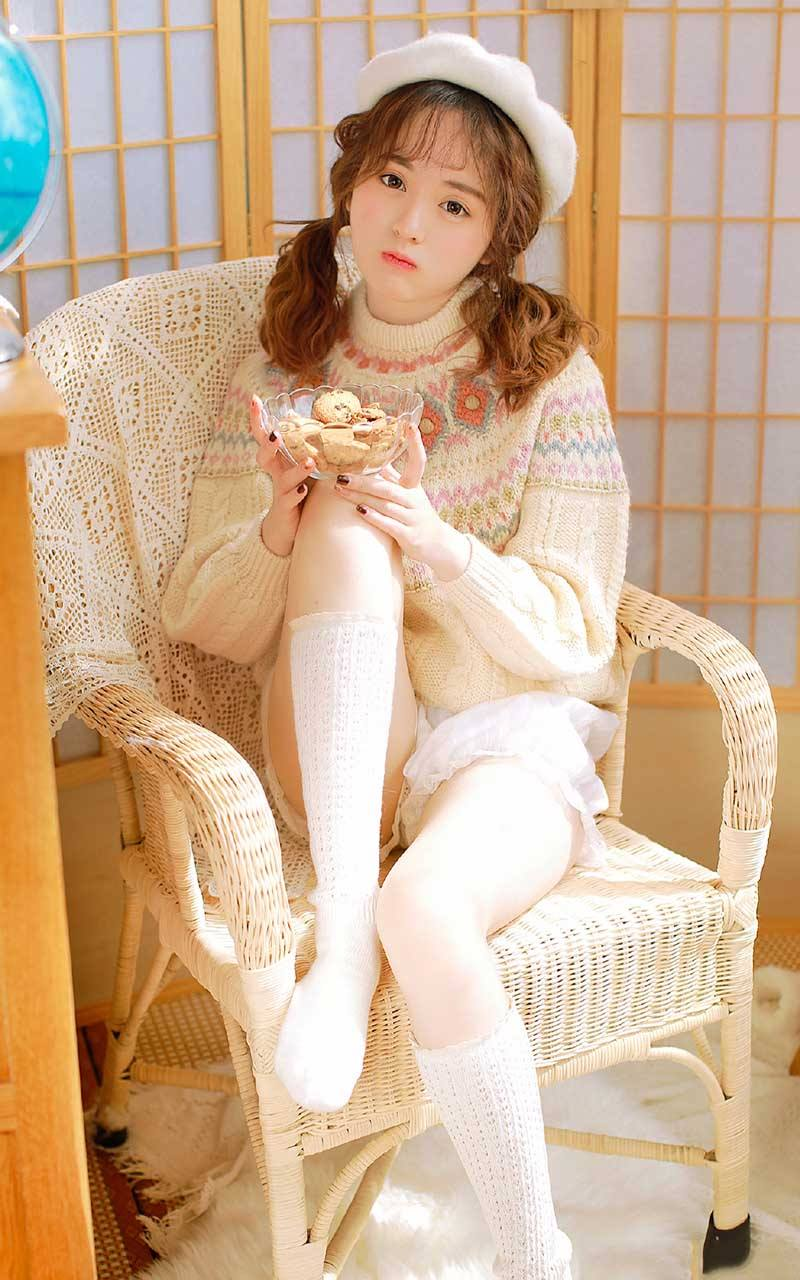person: (188, 54, 644, 1210)
